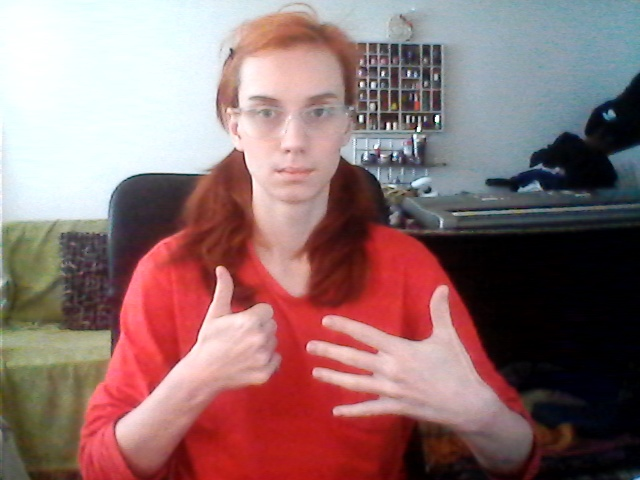sest: (173, 263, 481, 428)
